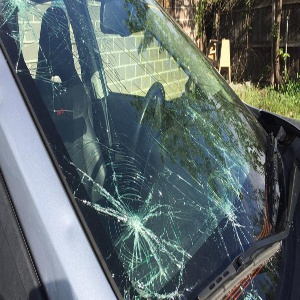door: (67, 59, 210, 257)
